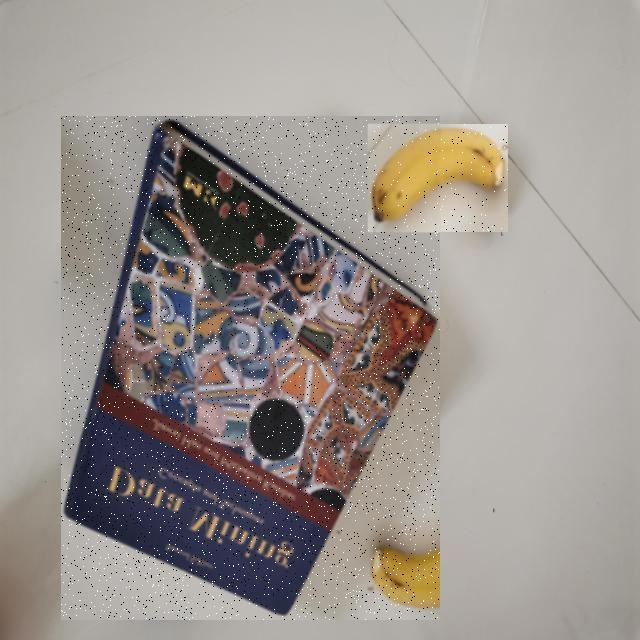Banana: (368, 124, 508, 232)
Book: (61, 117, 440, 621)
